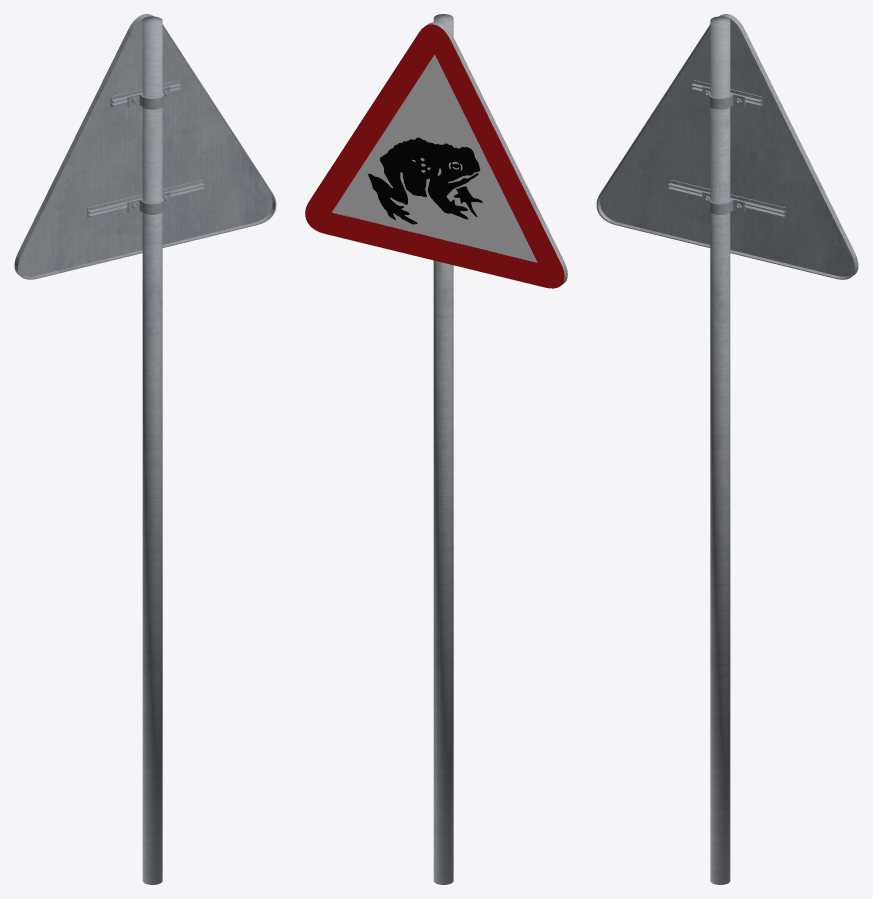
Rendered from Migratory_toad_crossing.fbx.
3 renders of one model, left to right at view 1: azimuth 30°, elevation 25°; view 2: azimuth 150°, elevation 25°; view 3: azimuth 330°, elevation 25°, orthographic.
Parts seen in each view (by area): view 1: Migratory toad crossing; view 2: Migratory toad crossing; view 3: Migratory toad crossing.
Boxes of the visible parts, bbox=[...] form: Migratory toad crossing: bbox=[14, 14, 276, 884]; Migratory toad crossing: bbox=[305, 14, 567, 884]; Migratory toad crossing: bbox=[596, 14, 858, 884].
Size of the model in its own units: 0.0876 by 0.9002 by 2.86.
